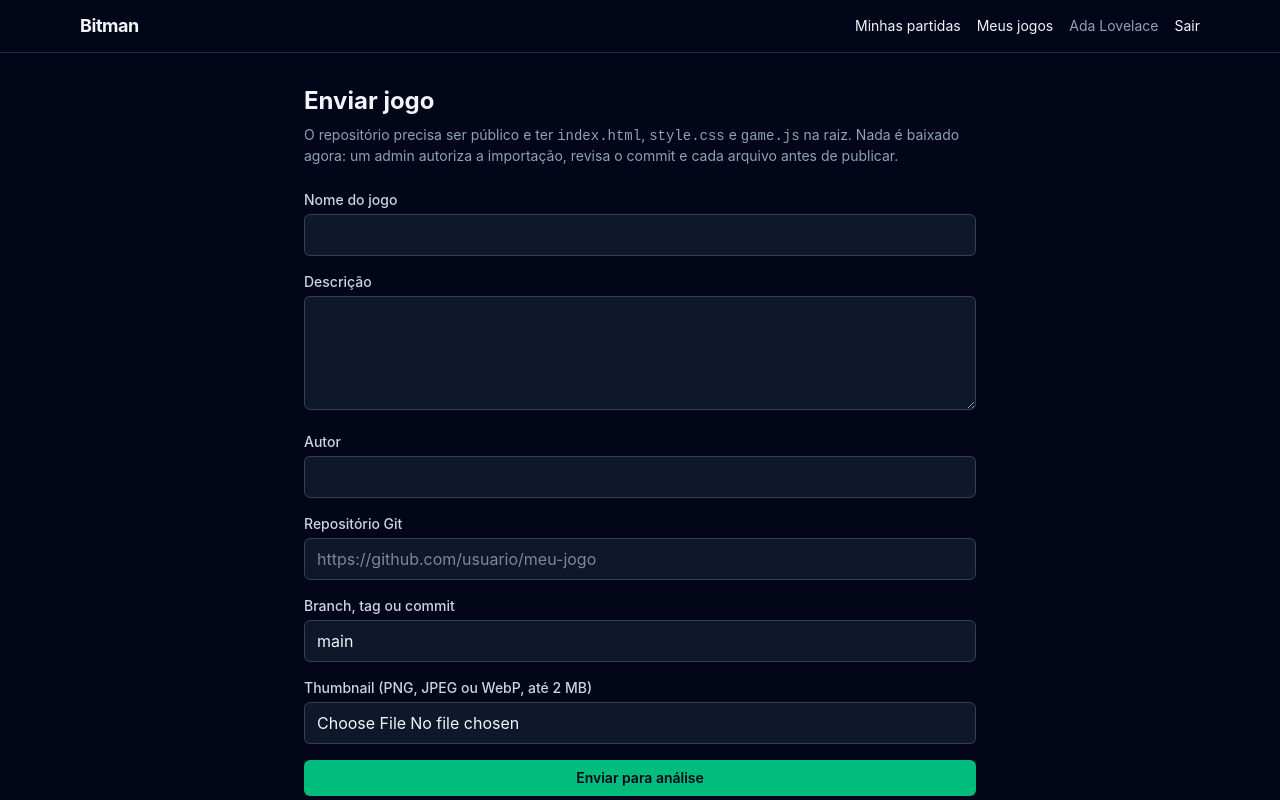
Test: SubmitGamePage › confere host, tipo da imagem e campos obrigatórios antes de enviar
Type "https://bitbucket.org/ada/snake" into the field labelled "Repositório Git". click: (640, 559)
box: [304,538,976,580]
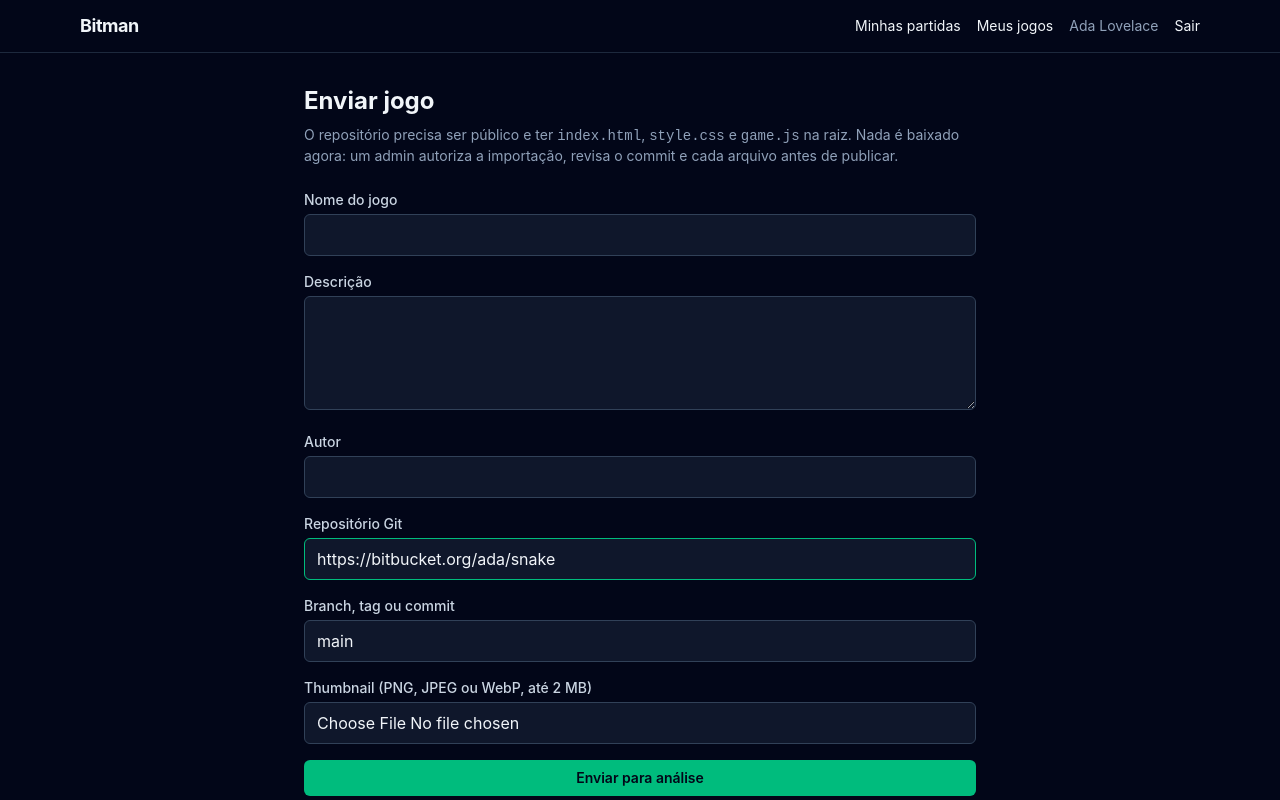
Click the button "Enviar para análise". click: click(640, 778)
box: [304,760,976,796]
(page scrolled)
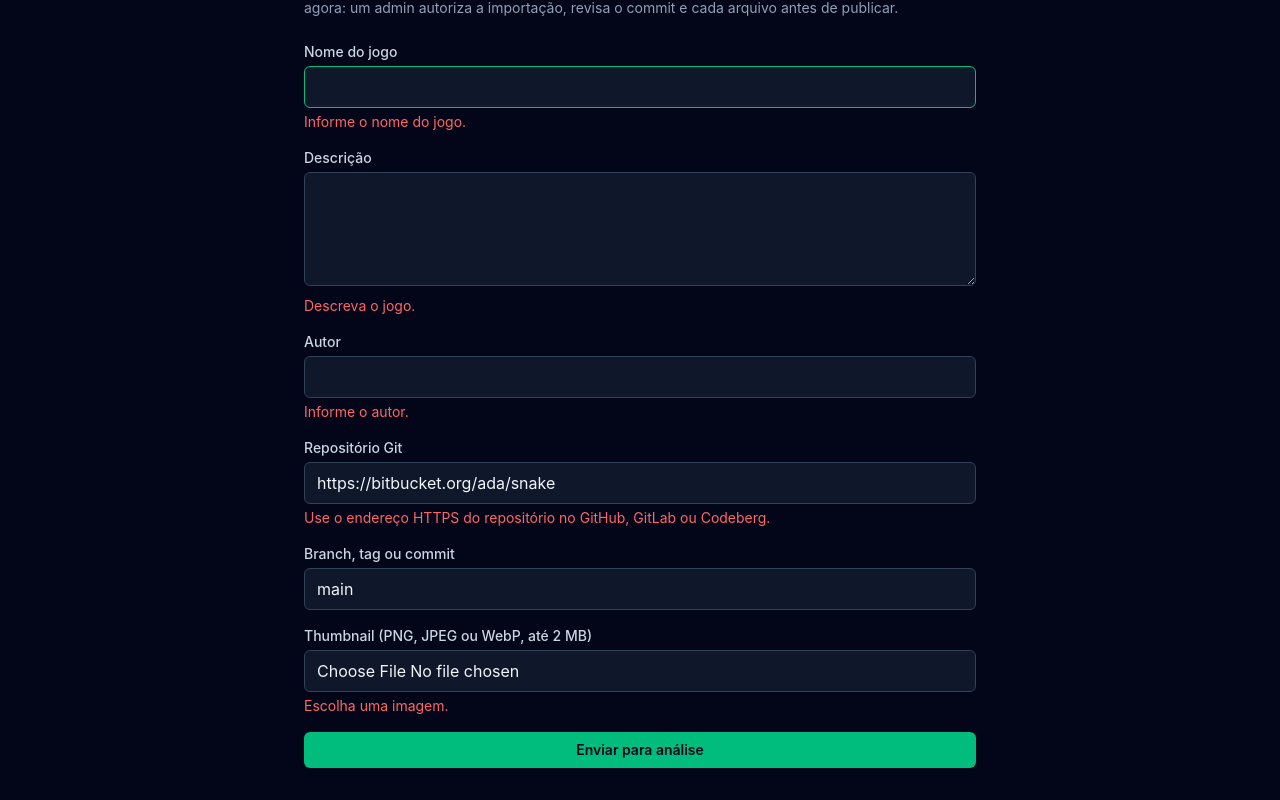
Expected: the text "Use o endereço HTTPS do repositório no GitHub, GitLab ou Codeberg." is shown, [304,509,770,526]
Expected: the text "Informe o nome do jogo." is shown, [304,113,466,130]
Expected: the text "Escolha uma imagem." is shown, [304,697,449,714]
